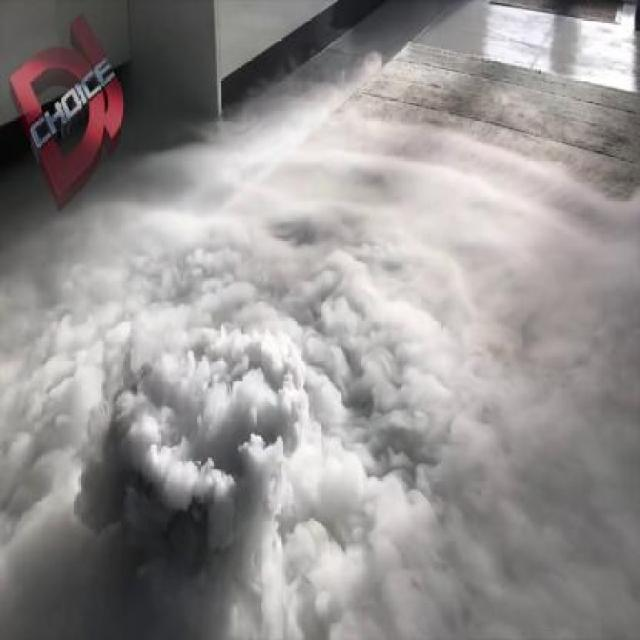smoke: (4, 154, 640, 640)
